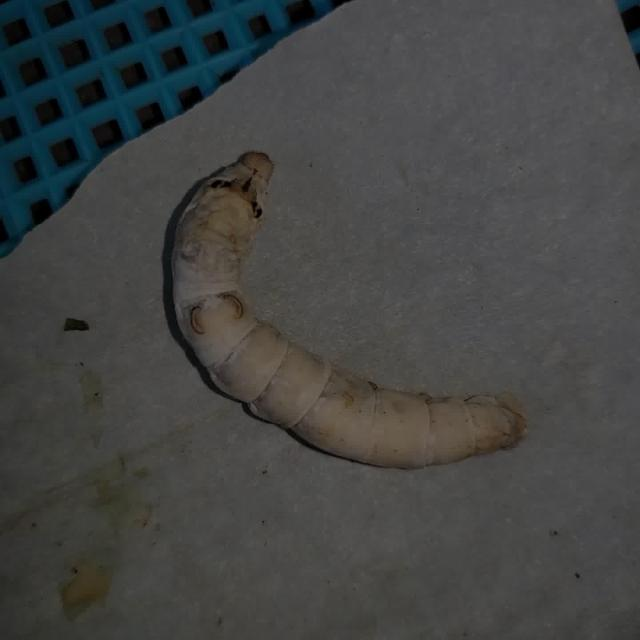Grasserie: (157, 144, 540, 496)
